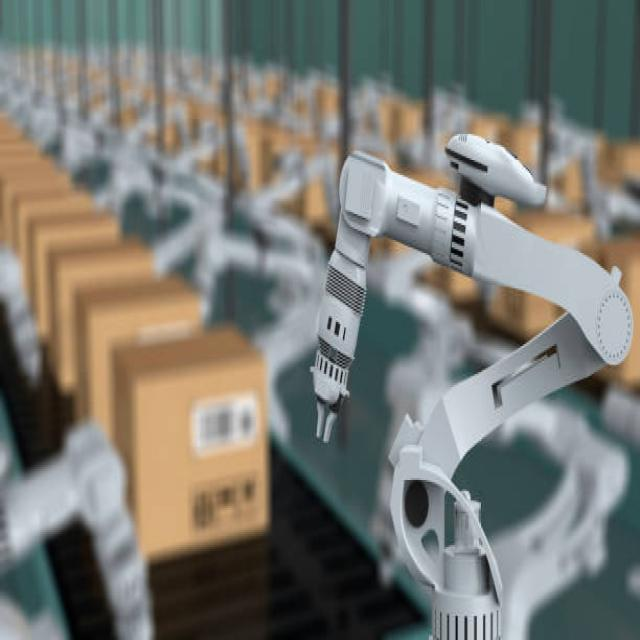Robotic-arm: (306, 130, 630, 640)
